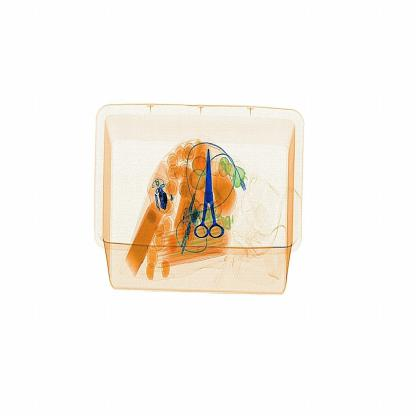gun: (192, 137, 225, 245)
